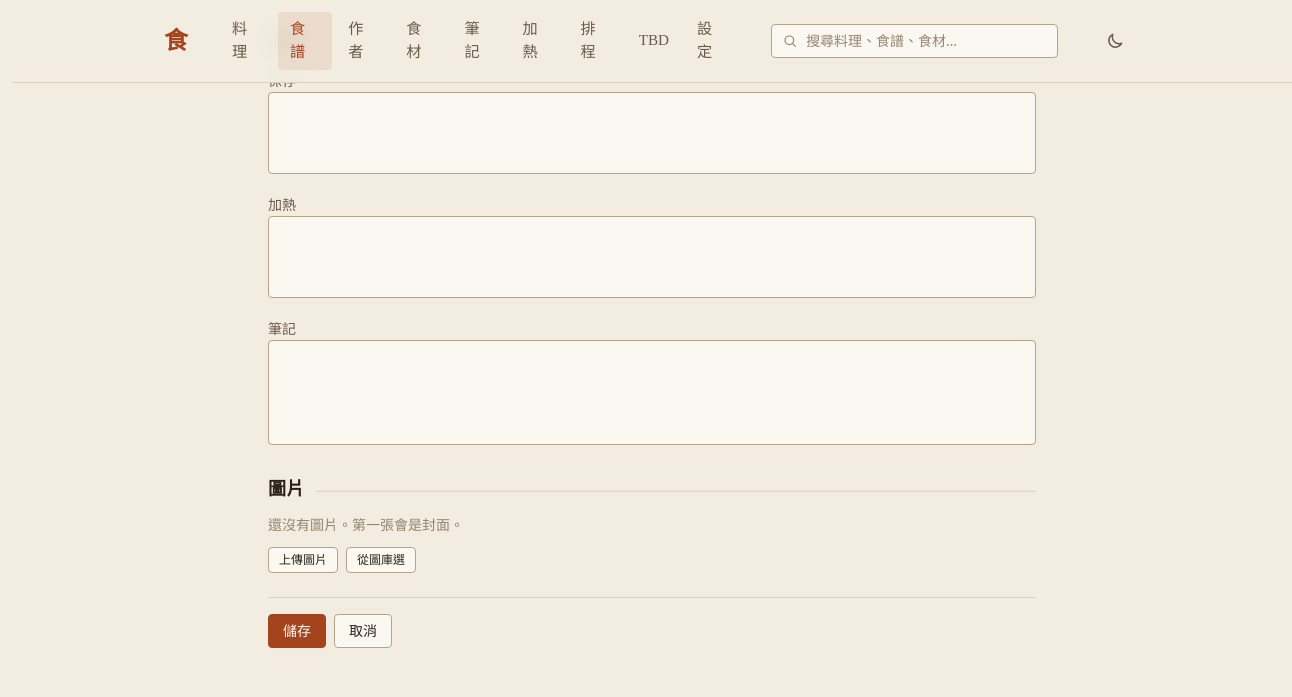
Scenario: RecipeForm › refuses to save without a dish, or with one typed but never picked
The width and height of the screenshot is (1292, 697).
(page scrolled)
Click the button "儲存".
click(297, 631)  # box [268,614,326,648]
(page scrolled)
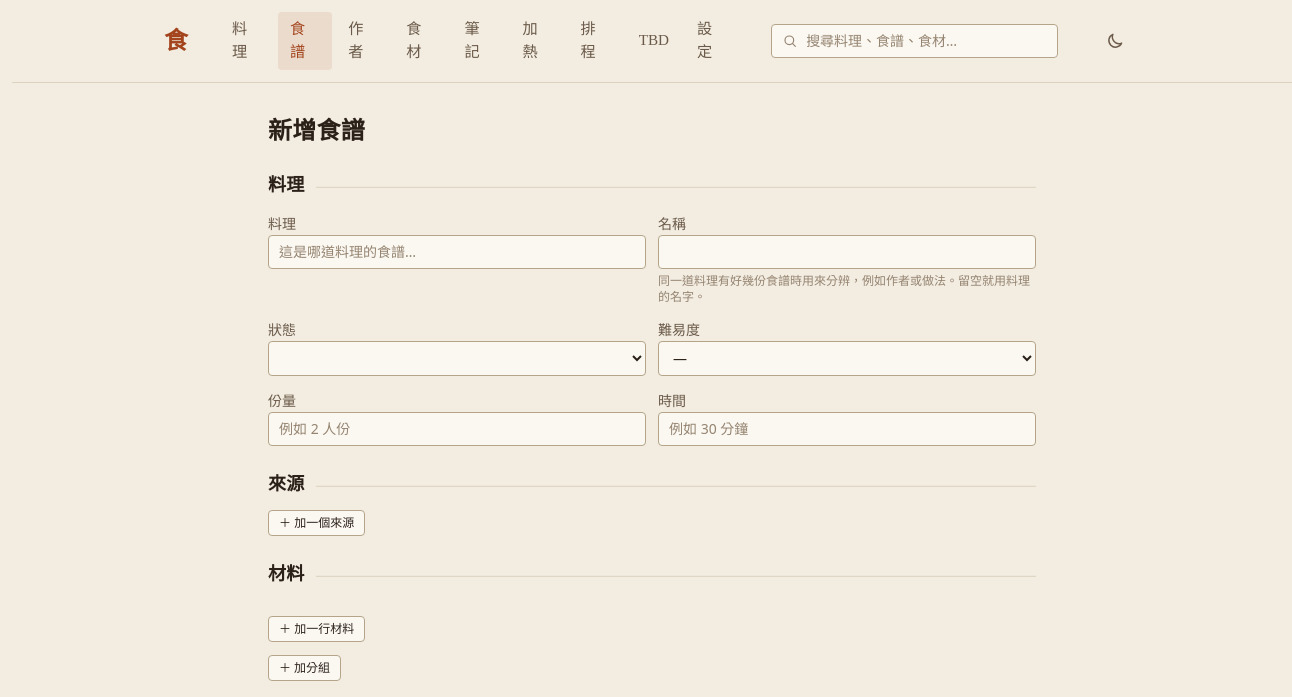
Type "高湯" into the dropdown labelled "料理".
click(457, 252); type("高湯")  # box [268,235,646,269]
(page scrolled)
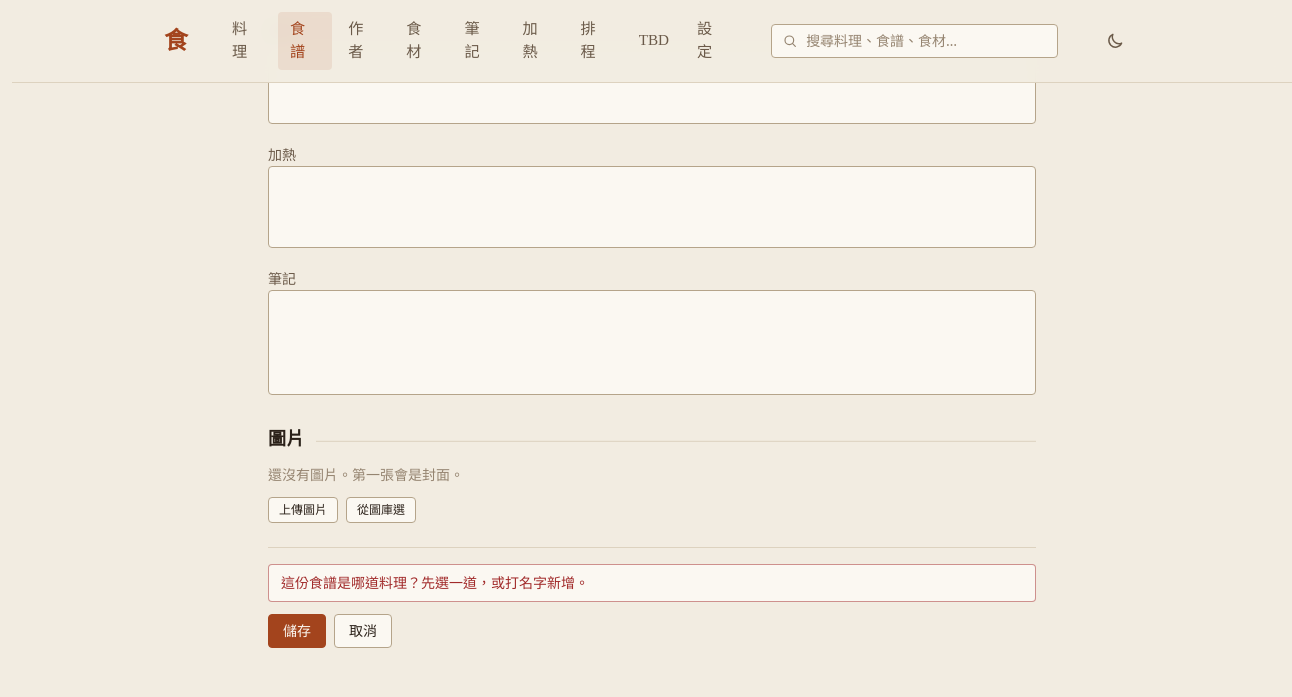
Click the button "儲存".
click(297, 631)  # box [268,614,326,648]
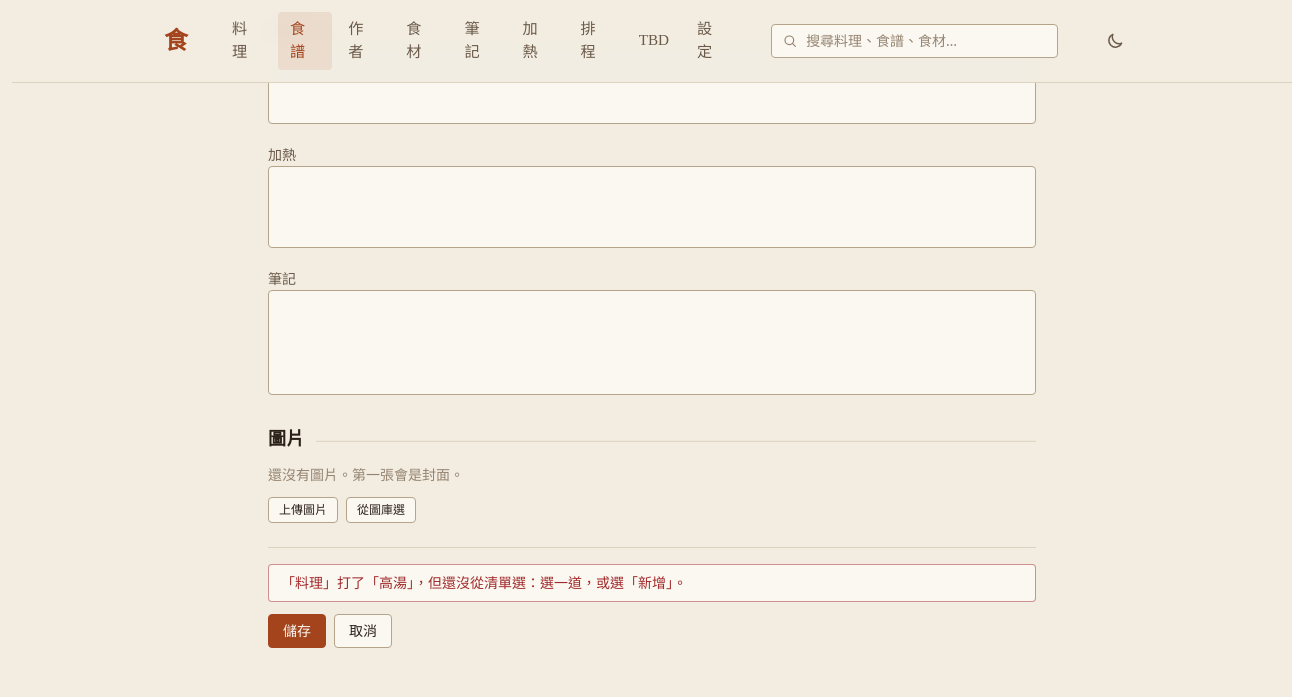
Expected: the message reads "「料理」打了「高湯」，但還沒從清單選：選一道，或選「新增」。", [281,573,687,592]
